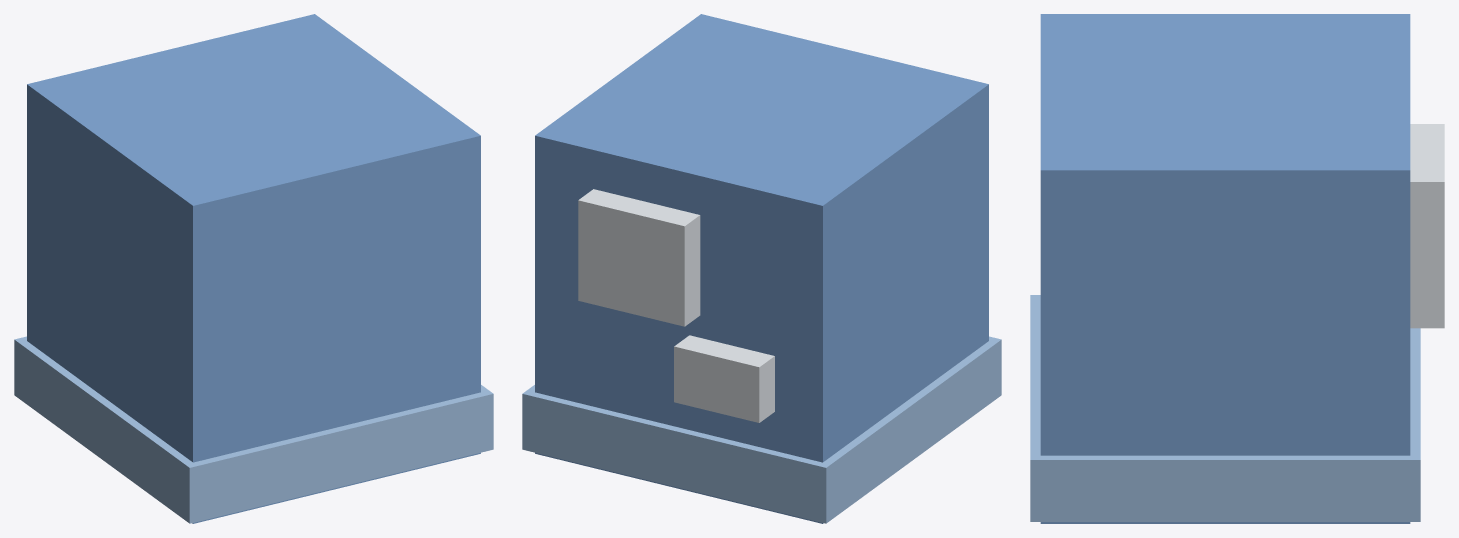
Rendered from jeans_rasgado_canela.glb.
3 renders of one model, left to right at view 1: azimuth 30°, elevation 25°; view 2: azimuth 150°, elevation 25°; view 3: azimuth 270°, elevation 25°, orthographic. The views are drawn at different scales.
Visible parts, largest first — view 1: jeans_rasgado_canela; view 2: jeans_rasgado_canela; view 3: jeans_rasgado_canela.
Part boxes in pixels (bbox=[...]): jeans_rasgado_canela: bbox=[14, 14, 493, 523]; jeans_rasgado_canela: bbox=[522, 14, 1001, 523]; jeans_rasgado_canela: bbox=[1030, 14, 1444, 523].
Size of the model in its own units: 0.285 by 0.285 by 0.3025.
